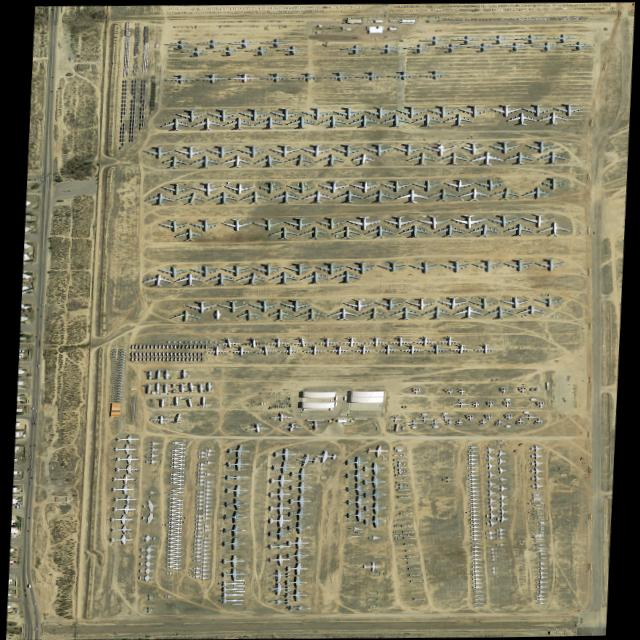large-vehicle: (28, 582, 31, 586)
plane: (175, 189, 211, 205), (469, 150, 507, 165), (395, 187, 431, 202), (235, 270, 271, 285), (536, 220, 572, 235), (501, 221, 536, 236), (452, 213, 486, 228), (417, 214, 452, 228), (503, 150, 537, 164), (423, 141, 457, 155), (220, 153, 254, 167), (189, 154, 223, 168), (347, 215, 381, 229), (191, 181, 225, 195), (301, 188, 335, 202), (363, 188, 397, 202), (141, 272, 175, 286), (522, 212, 556, 226), (284, 152, 317, 166), (253, 152, 286, 166), (484, 304, 517, 318), (398, 223, 431, 237), (333, 188, 366, 202), (468, 222, 501, 236), (487, 212, 520, 226), (160, 116, 192, 130), (349, 113, 381, 127), (160, 154, 192, 168), (143, 191, 177, 204), (381, 112, 412, 126), (459, 103, 490, 117), (239, 189, 270, 203), (206, 271, 237, 285), (489, 186, 522, 199), (437, 295, 470, 308), (421, 305, 454, 318), (327, 306, 360, 319), (331, 224, 364, 237), (433, 223, 466, 236), (287, 114, 317, 128), (490, 139, 520, 153), (301, 269, 331, 283), (442, 258, 472, 272), (412, 112, 444, 125), (443, 112, 475, 125), (506, 111, 538, 124), (443, 177, 475, 190), (459, 186, 491, 199), (475, 177, 507, 190), (536, 150, 568, 163), (526, 139, 558, 152), (438, 151, 470, 164), (316, 152, 348, 165), (301, 143, 333, 156), (428, 187, 460, 200), (452, 304, 484, 317), (358, 306, 390, 319), (383, 214, 415, 227), (318, 179, 350, 192), (186, 299, 218, 312), (331, 269, 363, 282), (293, 451, 320, 466), (192, 116, 223, 129), (223, 116, 254, 129), (255, 115, 286, 128), (318, 114, 349, 127), (365, 105, 396, 118), (427, 104, 458, 117), (491, 103, 522, 116), (522, 102, 553, 115), (538, 111, 569, 124), (554, 102, 585, 115), (393, 142, 424, 155), (332, 143, 363, 156), (269, 143, 300, 156), (238, 143, 269, 156), (207, 144, 238, 157), (175, 144, 206, 157), (500, 294, 531, 307), (406, 296, 437, 309), (390, 305, 421, 318), (376, 296, 407, 309), (285, 216, 316, 229), (268, 225, 299, 238), (253, 216, 284, 229), (159, 218, 190, 231), (209, 190, 240, 203), (271, 189, 302, 202), (350, 179, 381, 192), (269, 270, 300, 283), (249, 298, 280, 311), (218, 299, 249, 312), (175, 272, 206, 285), (253, 262, 284, 275), (316, 261, 347, 274), (473, 258, 504, 271), (505, 257, 536, 270), (536, 257, 567, 270), (295, 307, 328, 319), (208, 107, 238, 120), (271, 106, 301, 119), (303, 106, 333, 119), (334, 105, 364, 118), (397, 104, 427, 117), (177, 108, 207, 121), (144, 145, 174, 158), (222, 217, 252, 230), (191, 263, 221, 276), (285, 261, 315, 274), (239, 107, 271, 119), (406, 151, 438, 163), (377, 259, 409, 271), (161, 182, 193, 194), (521, 185, 550, 198), (365, 142, 394, 155), (348, 260, 377, 273), (412, 179, 443, 191), (381, 179, 412, 191), (281, 298, 312, 310), (365, 224, 396, 236), (316, 216, 347, 228), (190, 218, 221, 230), (469, 295, 497, 308), (300, 225, 328, 238), (169, 309, 202, 320), (344, 297, 374, 309), (225, 181, 255, 193), (410, 260, 440, 272), (563, 39, 595, 50), (312, 449, 339, 462), (287, 180, 316, 192), (159, 264, 188, 276), (223, 263, 252, 275), (361, 474, 387, 487), (365, 443, 391, 456), (222, 509, 248, 522), (222, 523, 248, 536), (350, 151, 376, 164), (541, 176, 569, 188), (262, 36, 292, 47), (267, 568, 292, 581), (362, 514, 387, 527), (345, 481, 370, 494), (345, 468, 370, 481), (345, 455, 370, 468), (268, 513, 293, 526), (227, 443, 252, 456), (215, 335, 242, 347), (175, 227, 202, 239), (467, 41, 499, 51), (229, 37, 261, 47), (339, 43, 371, 53), (404, 42, 436, 52), (531, 40, 563, 50), (267, 552, 291, 565), (285, 561, 309, 574), (268, 581, 292, 594), (347, 508, 371, 521), (346, 494, 370, 507), (268, 526, 292, 539), (288, 506, 312, 519), (225, 483, 249, 496), (222, 536, 246, 549), (221, 567, 245, 580), (272, 460, 296, 473), (270, 473, 294, 486), (288, 493, 312, 506), (269, 500, 293, 513), (289, 334, 315, 346), (268, 307, 292, 320), (389, 69, 420, 79), (293, 71, 324, 81), (229, 72, 260, 82), (197, 72, 228, 82), (165, 73, 196, 83), (182, 45, 213, 55), (213, 45, 244, 55), (277, 44, 308, 54), (420, 34, 451, 44), (436, 41, 467, 51), (500, 40, 531, 50), (516, 33, 547, 43), (547, 32, 578, 42), (516, 304, 547, 314), (166, 38, 196, 48), (484, 33, 514, 43), (286, 548, 309, 561), (285, 575, 308, 588), (363, 461, 386, 474), (225, 496, 248, 509), (290, 466, 313, 479), (290, 480, 313, 493), (462, 140, 485, 153), (109, 503, 138, 513), (108, 473, 137, 483), (109, 443, 138, 453), (284, 588, 308, 600), (364, 501, 388, 513), (363, 488, 387, 500), (226, 457, 250, 469), (241, 335, 265, 347), (425, 341, 449, 353), (245, 420, 269, 432), (205, 343, 229, 355), (237, 308, 261, 320), (288, 535, 310, 548), (106, 533, 134, 543), (108, 483, 136, 493), (112, 463, 140, 473), (420, 69, 451, 78), (356, 70, 387, 79), (261, 72, 292, 81), (197, 38, 228, 47), (246, 45, 277, 54), (372, 43, 403, 52), (451, 34, 482, 43), (288, 520, 311, 532), (222, 554, 245, 566), (274, 447, 297, 459), (269, 487, 292, 499), (260, 181, 283, 193), (351, 342, 376, 353), (388, 334, 413, 345), (107, 513, 134, 523), (113, 453, 140, 463), (325, 71, 355, 80), (278, 343, 302, 354), (266, 335, 290, 346), (302, 343, 326, 354), (315, 335, 339, 346), (327, 342, 351, 353), (340, 335, 364, 346), (376, 342, 400, 353), (413, 334, 437, 345), (438, 334, 462, 345), (303, 419, 327, 430), (279, 420, 305, 430), (450, 342, 473, 353), (474, 341, 497, 352), (229, 343, 252, 354), (111, 493, 139, 502), (253, 344, 278, 354), (113, 433, 140, 442), (401, 342, 423, 353), (364, 335, 388, 345), (141, 498, 159, 511), (269, 411, 293, 420), (112, 523, 133, 533), (139, 511, 158, 522), (363, 560, 382, 570), (493, 465, 508, 473), (138, 573, 155, 580), (495, 506, 509, 514), (485, 518, 499, 526), (485, 510, 499, 518), (139, 566, 155, 573), (139, 559, 155, 566), (140, 545, 156, 552), (140, 533, 156, 540), (452, 400, 470, 406), (404, 419, 422, 425), (426, 418, 444, 424), (436, 414, 454, 420), (493, 449, 508, 456), (530, 458, 543, 466), (139, 552, 156, 558), (484, 503, 498, 510), (484, 496, 498, 503), (483, 488, 497, 495), (483, 479, 497, 486), (483, 470, 497, 477), (493, 457, 507, 464), (482, 453, 496, 460), (482, 445, 496, 452), (529, 451, 543, 458), (495, 514, 509, 521), (530, 481, 544, 488), (144, 445, 160, 451), (520, 413, 539, 418), (385, 415, 404, 420), (495, 499, 508, 506), (495, 492, 508, 499), (495, 484, 508, 491), (483, 461, 496, 468), (530, 444, 543, 451), (530, 474, 543, 481), (530, 466, 543, 473), (144, 451, 159, 457), (145, 439, 160, 445), (415, 415, 433, 420), (393, 467, 406, 473), (393, 482, 406, 488), (143, 593, 156, 599), (368, 534, 383, 539), (393, 460, 405, 466), (145, 458, 159, 463), (442, 476, 455, 481), (142, 606, 155, 611), (495, 526, 507, 531), (536, 569, 548, 574), (536, 583, 548, 588), (349, 525, 363, 529), (486, 534, 497, 539), (485, 529, 496, 534), (536, 550, 547, 555), (196, 465, 209, 469), (204, 447, 217, 451), (467, 472, 480, 476), (467, 468, 480, 472), (170, 455, 183, 459), (170, 513, 183, 517), (173, 441, 186, 445), (194, 513, 207, 517), (195, 501, 208, 505), (195, 493, 208, 497), (202, 491, 215, 495), (169, 537, 182, 541), (191, 573, 204, 577), (203, 479, 215, 483), (203, 471, 215, 475), (197, 461, 209, 465), (204, 451, 216, 455), (468, 484, 480, 488), (468, 480, 480, 484), (468, 464, 480, 468), (467, 460, 479, 464), (467, 452, 479, 456), (467, 444, 479, 448), (470, 536, 482, 540), (469, 512, 481, 516), (196, 477, 208, 481), (196, 481, 208, 485), (173, 457, 185, 461), (170, 459, 182, 463), (173, 461, 185, 465), (170, 463, 182, 467), (173, 465, 185, 469), (172, 473, 184, 477), (169, 475, 181, 479), (169, 479, 181, 483), (172, 481, 184, 485), (172, 485, 184, 489), (169, 487, 181, 491), (172, 489, 184, 493), (168, 495, 180, 499), (168, 499, 180, 503), (171, 505, 183, 509), (168, 507, 180, 511), (171, 509, 183, 513), (173, 453, 185, 457), (203, 483, 215, 487), (174, 445, 186, 449), (170, 521, 182, 525), (167, 523, 179, 527), (170, 525, 182, 529), (193, 549, 205, 553), (200, 547, 212, 551), (193, 541, 205, 545), (201, 535, 213, 539), (194, 529, 206, 533), (195, 517, 207, 521), (202, 515, 214, 519), (195, 505, 207, 509), (196, 489, 208, 493), (169, 553, 181, 557), (170, 529, 182, 533), (167, 531, 179, 535), (170, 533, 182, 537), (167, 535, 179, 539), (166, 551, 178, 555), (166, 555, 178, 559), (169, 557, 181, 561), (166, 559, 178, 563), (166, 563, 178, 567), (168, 565, 180, 569), (192, 565, 204, 569), (536, 560, 548, 564), (535, 579, 547, 583), (197, 473, 208, 477), (197, 469, 208, 473), (468, 456, 479, 460), (469, 488, 480, 492), (469, 500, 480, 504), (171, 451, 182, 455), (173, 469, 184, 473), (170, 471, 181, 475), (173, 477, 184, 481), (172, 497, 183, 501), (172, 501, 183, 505), (169, 503, 180, 507), (168, 511, 179, 515), (168, 515, 179, 519), (171, 517, 182, 521), (174, 449, 185, 453), (171, 447, 182, 451), (168, 519, 179, 523), (194, 537, 205, 541), (195, 525, 206, 529), (194, 521, 205, 525), (203, 499, 214, 503), (196, 497, 207, 501), (193, 553, 204, 557), (168, 527, 179, 531), (167, 539, 178, 543), (170, 541, 181, 545), (167, 543, 178, 547), (170, 545, 181, 549), (167, 547, 178, 551), (170, 549, 181, 553), (193, 557, 204, 561), (169, 561, 180, 565), (536, 565, 547, 569), (537, 574, 548, 578), (536, 588, 547, 592), (194, 545, 204, 549), (471, 576, 484, 579), (197, 454, 210, 457), (470, 548, 483, 551), (469, 508, 482, 511), (534, 555, 547, 558), (535, 596, 548, 599), (472, 584, 484, 587), (472, 580, 484, 583), (204, 460, 216, 463), (198, 450, 210, 453), (468, 476, 480, 479), (469, 492, 481, 495), (471, 564, 483, 567), (471, 560, 483, 563), (471, 556, 483, 559), (486, 553, 498, 556), (471, 552, 483, 555), (471, 544, 483, 547), (470, 528, 482, 531), (470, 524, 482, 527), (470, 520, 482, 523), (469, 504, 481, 507), (165, 570, 174, 574), (171, 440, 183, 443), (200, 543, 212, 546), (200, 539, 212, 542), (194, 533, 206, 536), (201, 527, 213, 530), (202, 511, 214, 514), (202, 507, 214, 510), (202, 503, 214, 506), (203, 487, 215, 490), (199, 575, 211, 578), (192, 569, 204, 572), (199, 559, 211, 562), (535, 542, 547, 545), (536, 600, 548, 603), (472, 572, 483, 575), (472, 568, 483, 571), (487, 569, 498, 572), (487, 565, 498, 568), (467, 449, 478, 452), (469, 496, 480, 499), (470, 532, 481, 535), (486, 557, 497, 560), (470, 516, 481, 519), (169, 491, 180, 494), (201, 523, 212, 526), (203, 495, 214, 498), (200, 551, 211, 554), (200, 555, 211, 558), (199, 571, 210, 574), (199, 567, 210, 570), (199, 563, 210, 566), (536, 593, 547, 596), (486, 550, 496, 553), (486, 546, 496, 549), (497, 542, 507, 545), (496, 535, 506, 538), (496, 531, 506, 534), (164, 594, 172, 597)
small-vehicle: (28, 275, 33, 277), (30, 261, 34, 263), (61, 501, 67, 502), (30, 475, 33, 477), (27, 468, 30, 470), (31, 406, 34, 408), (22, 320, 25, 322), (13, 531, 16, 533), (24, 593, 27, 595), (23, 588, 26, 590), (49, 488, 54, 489), (348, 416, 353, 417), (340, 415, 345, 416), (19, 505, 21, 507), (20, 455, 22, 457), (29, 454, 31, 456), (35, 420, 37, 422), (35, 408, 37, 410), (38, 363, 40, 365), (37, 307, 39, 309), (27, 528, 29, 530), (35, 626, 37, 628), (34, 610, 36, 612), (39, 579, 41, 581), (35, 335, 38, 336), (33, 602, 36, 603), (14, 503, 16, 504), (32, 467, 33, 469), (29, 444, 31, 445), (33, 443, 35, 444), (40, 314, 42, 315), (41, 303, 43, 304), (28, 516, 30, 517), (10, 562, 12, 563)
